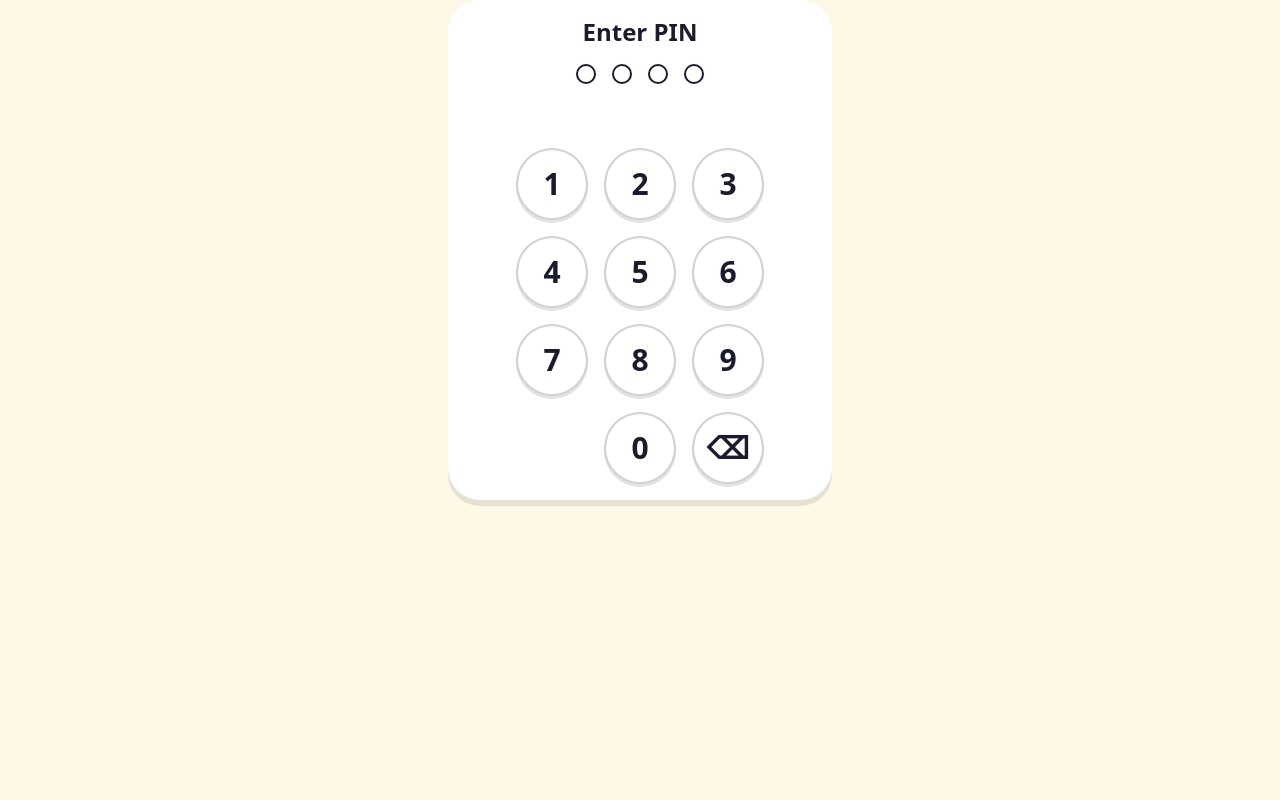
Test case: PinPad › fills dots, supports backspace and auto-submits on the 4th digit
Expected: the dialog "Enter PIN" is shown, [448,0,832,500]
Click the button "1" at (552, 184), box [516,148,588,220]
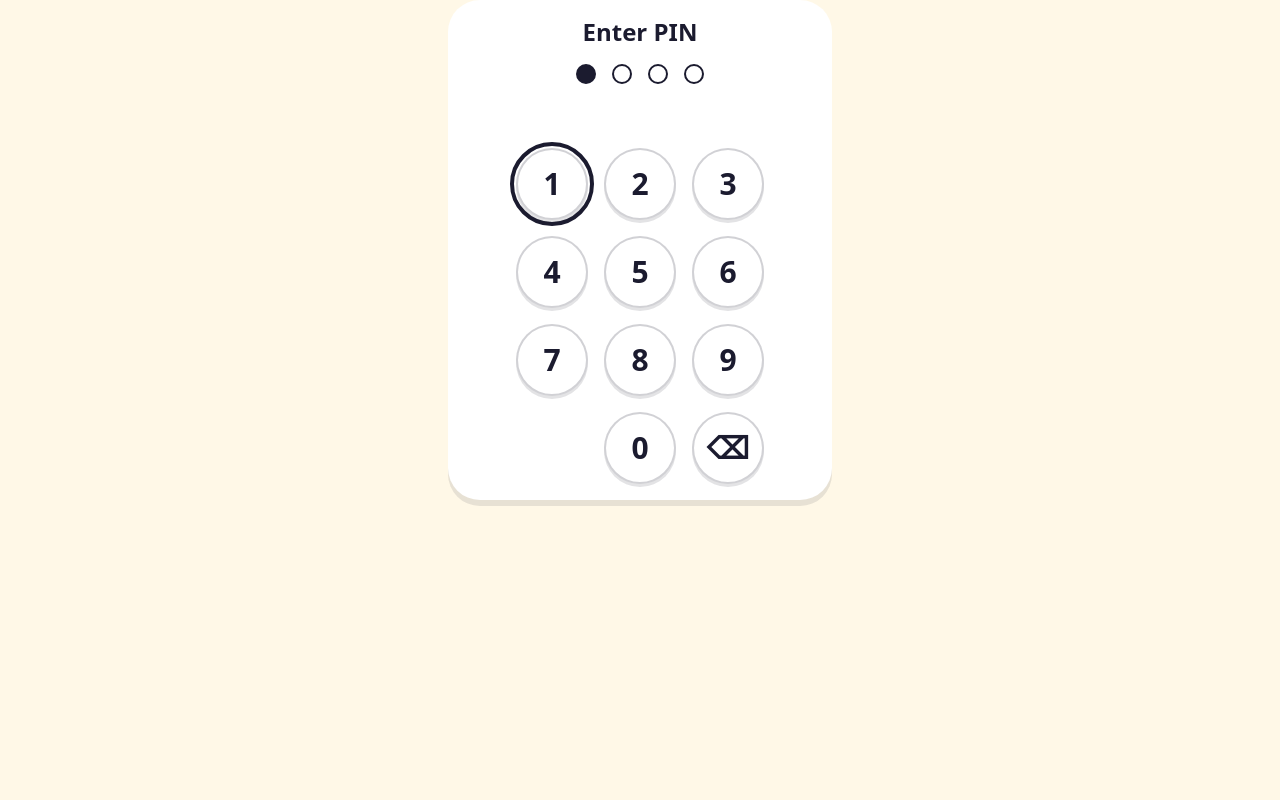
Click the button "2" at (640, 184), box [604,148,676,220]
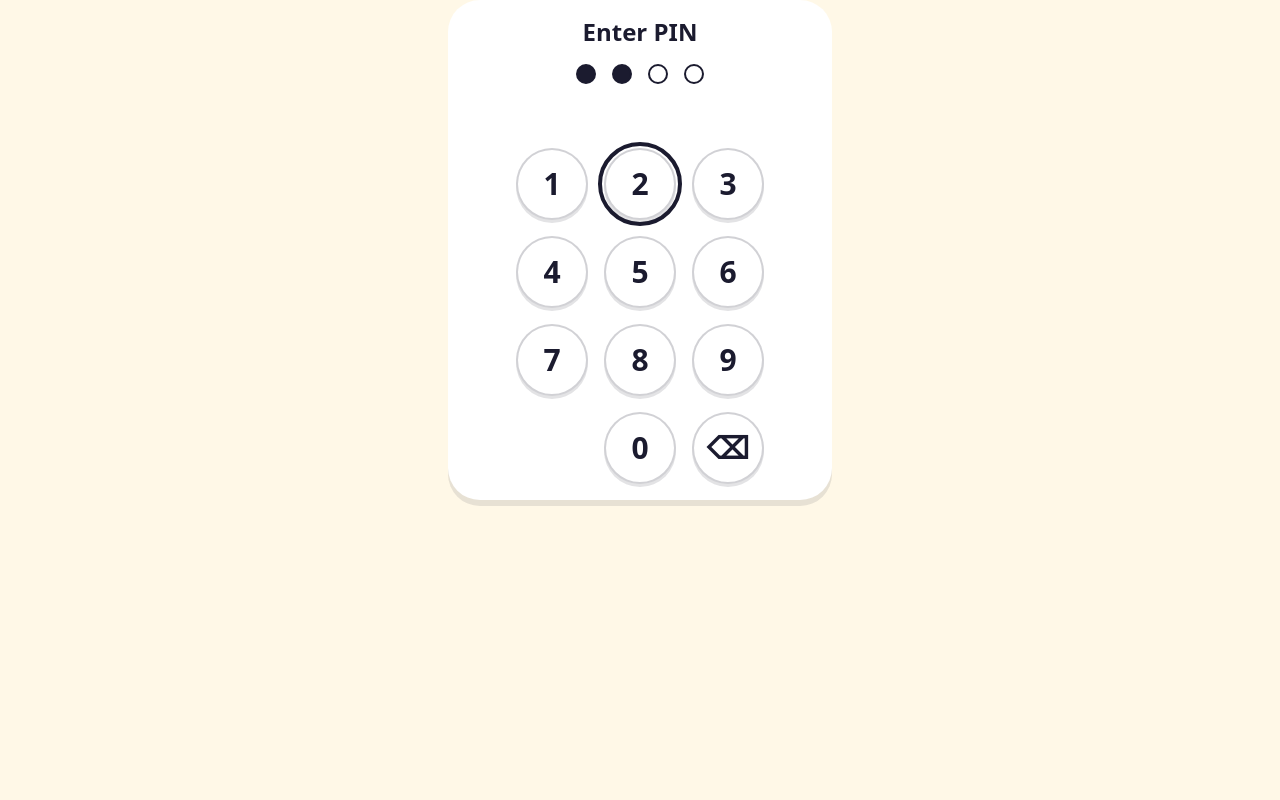
Now the picture named "2 of 4 digits entered" is shown, box [576,64,704,84]
Click the button named "Backspace" at (728, 448), box [692,412,764,484]
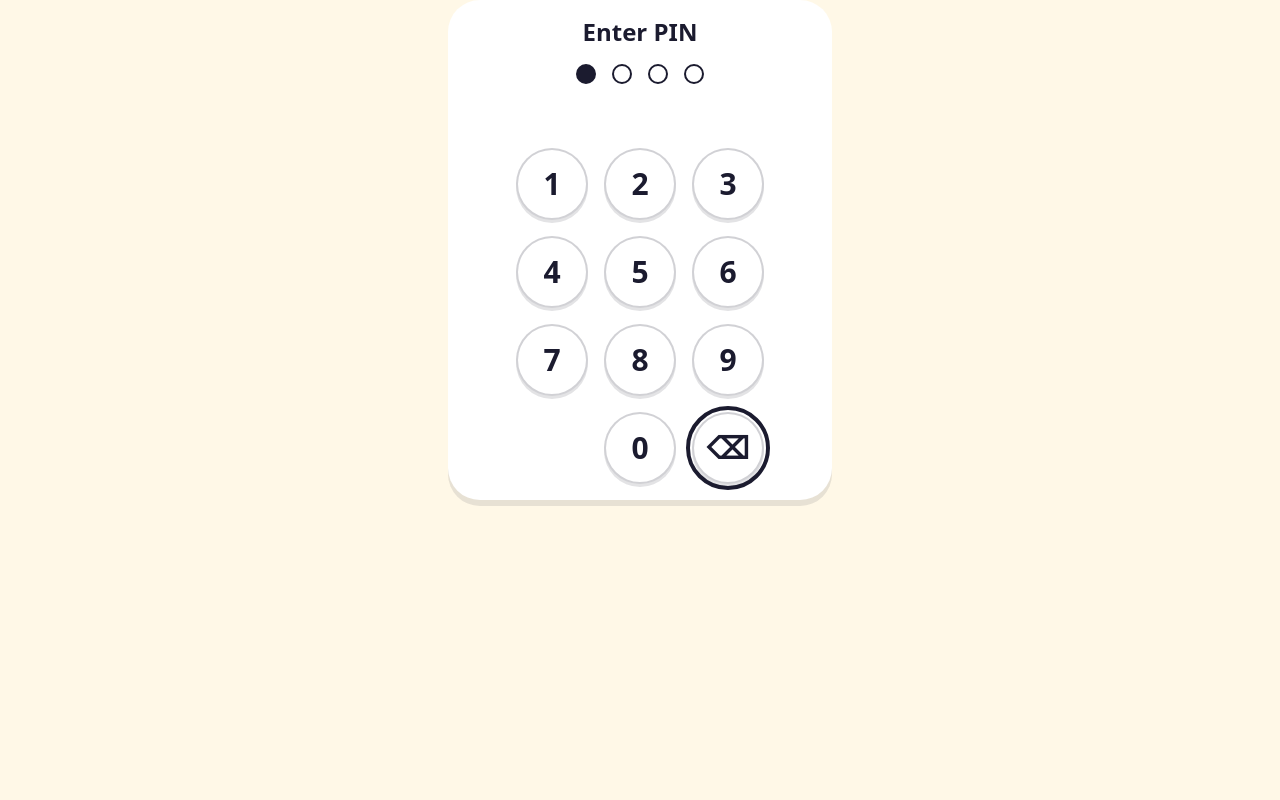
Now the picture named "1 of 4 digits entered" is shown, box [576,64,704,84]
Click the button "9" at (728, 360), box [692,324,764,396]
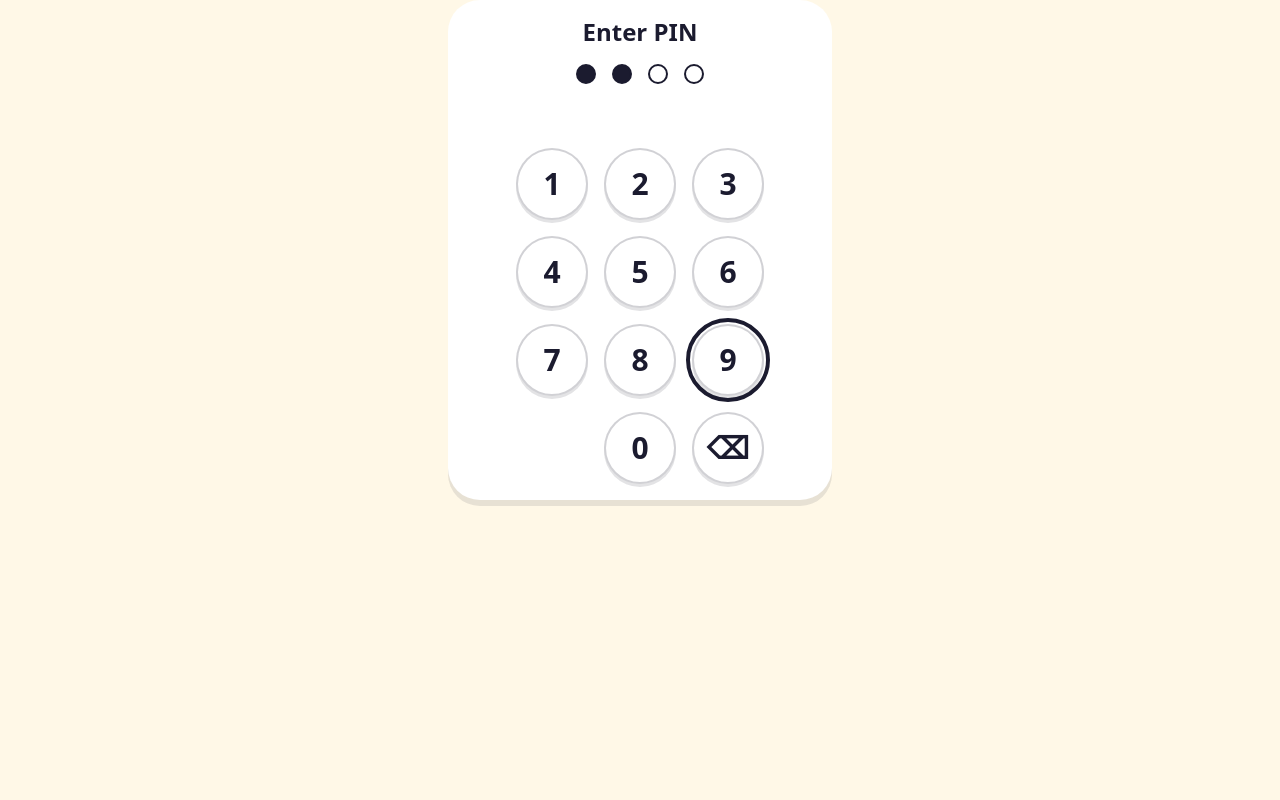
Click the button "8" at (640, 360), box [604,324,676,396]
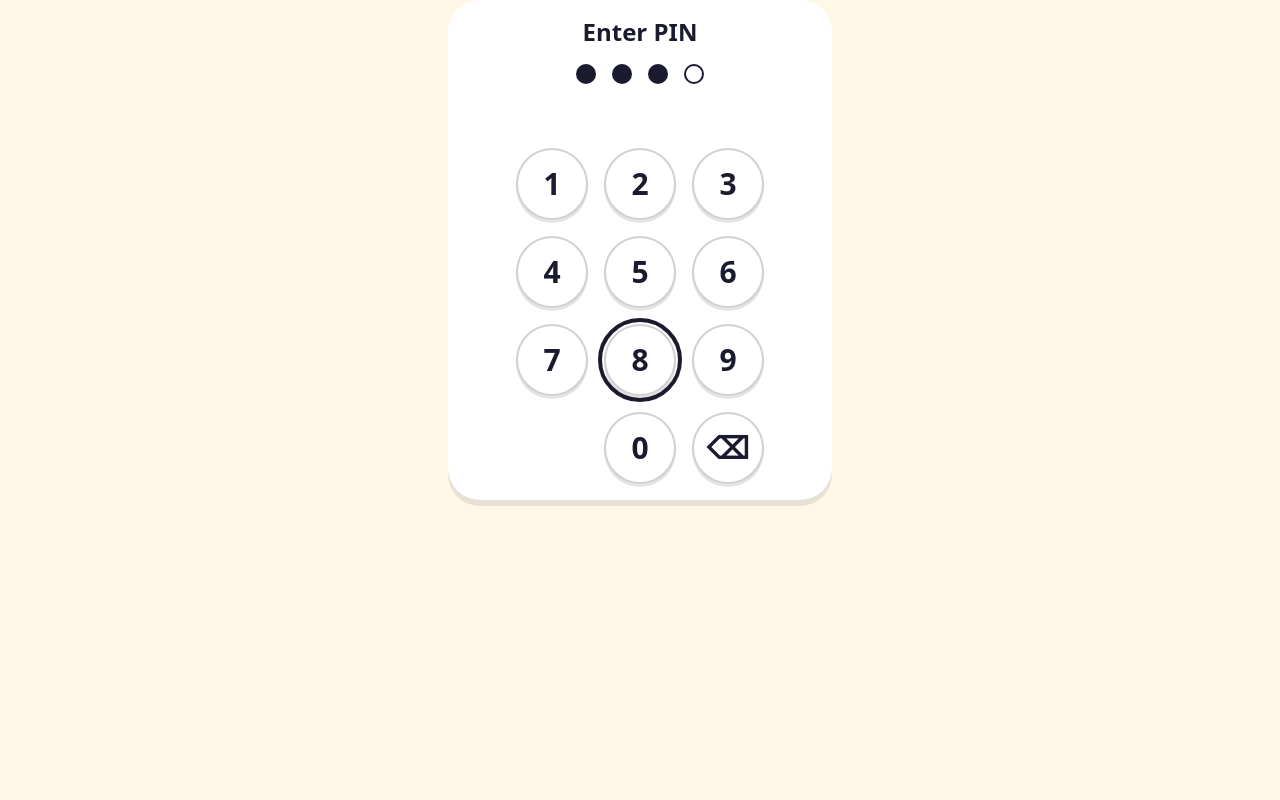
Click the button "7" at (552, 360), box [516,324,588,396]
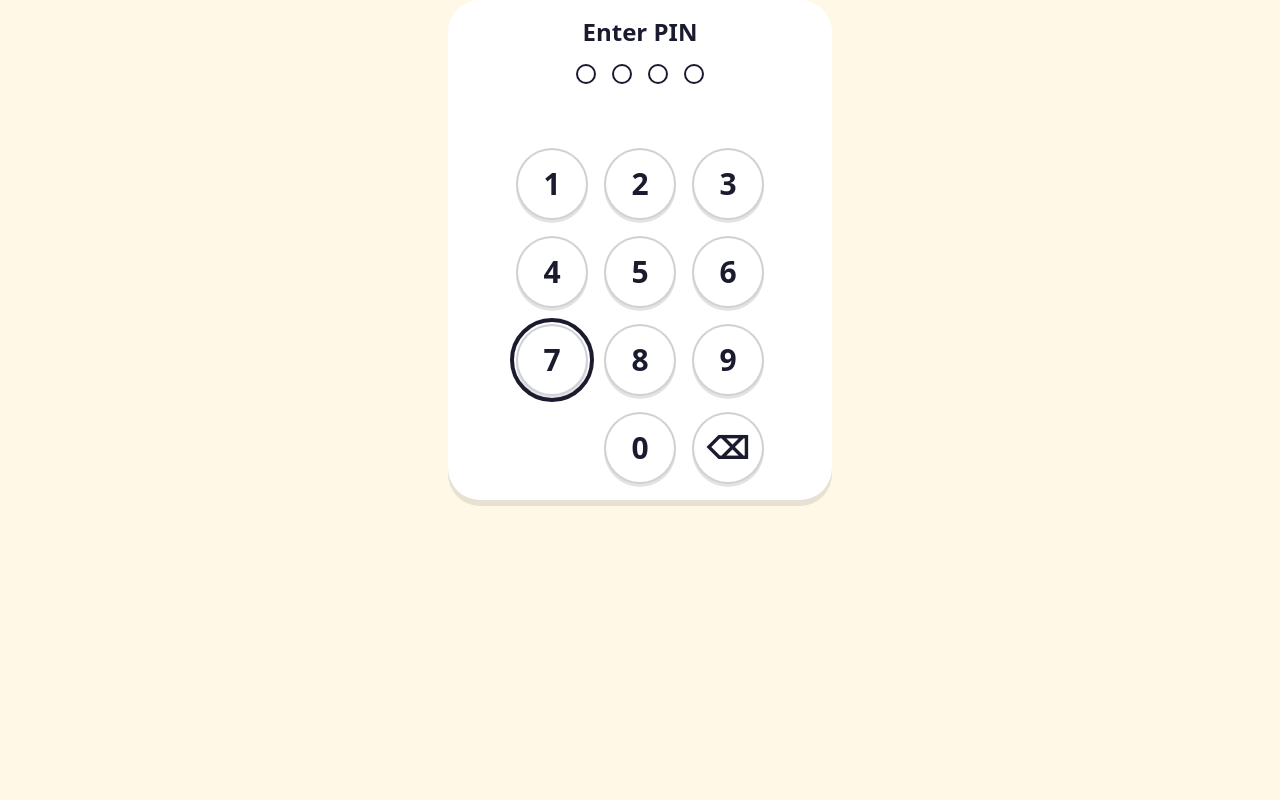
Now the picture named "0 of 4 digits entered" is shown, box [576,64,704,84]
